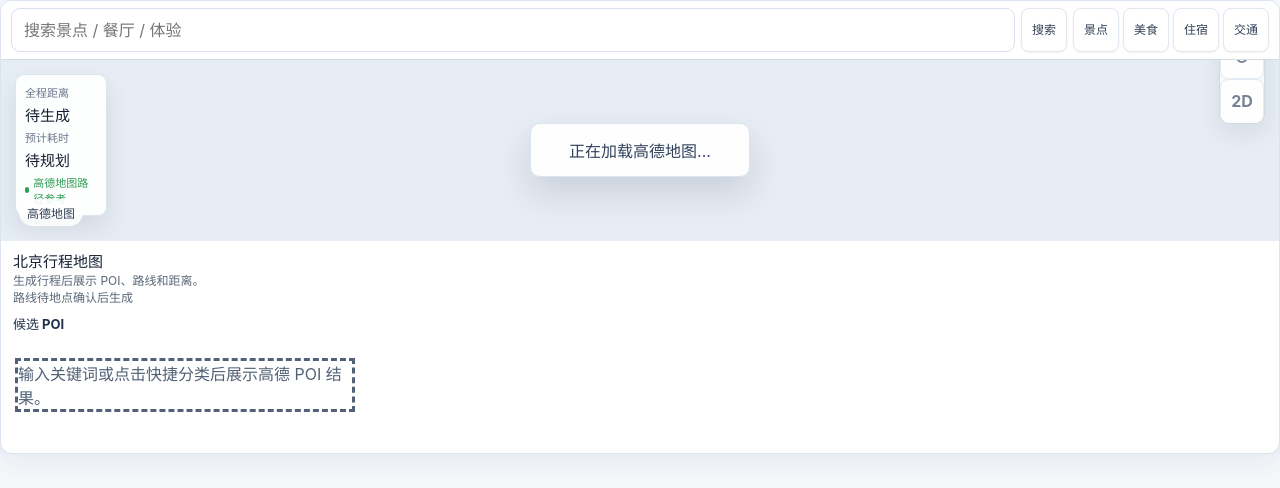
Test: map POI candidates are isolated when a new agent session starts
Type "故宫" into the field with placeholder "搜索景点 / 餐厅 / 体验" at (513, 30), box [11,8,1015,52]
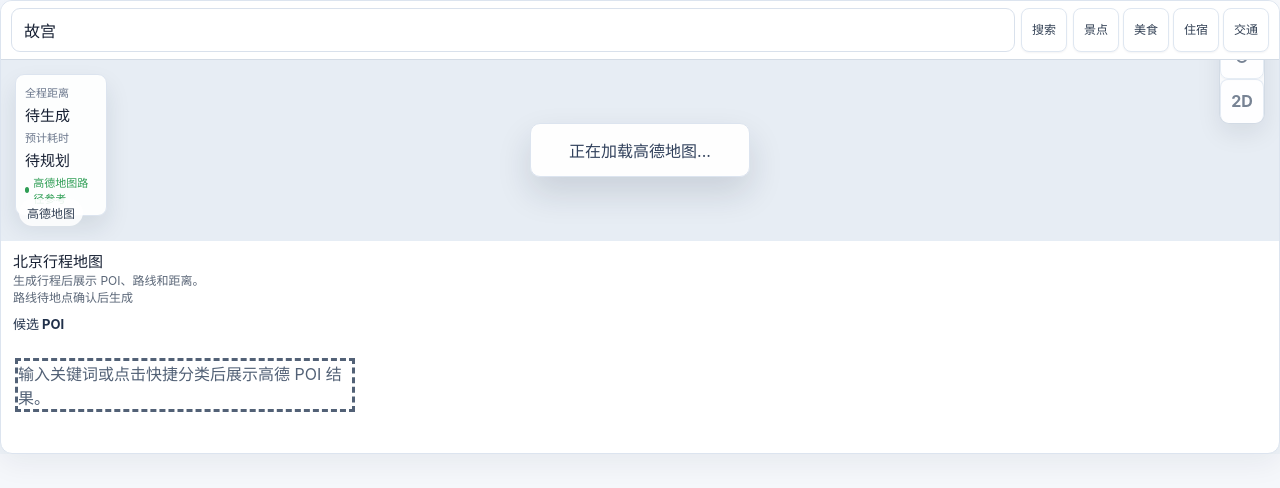
Click the button "搜索" at (1044, 30), box [1021,8,1067,52]
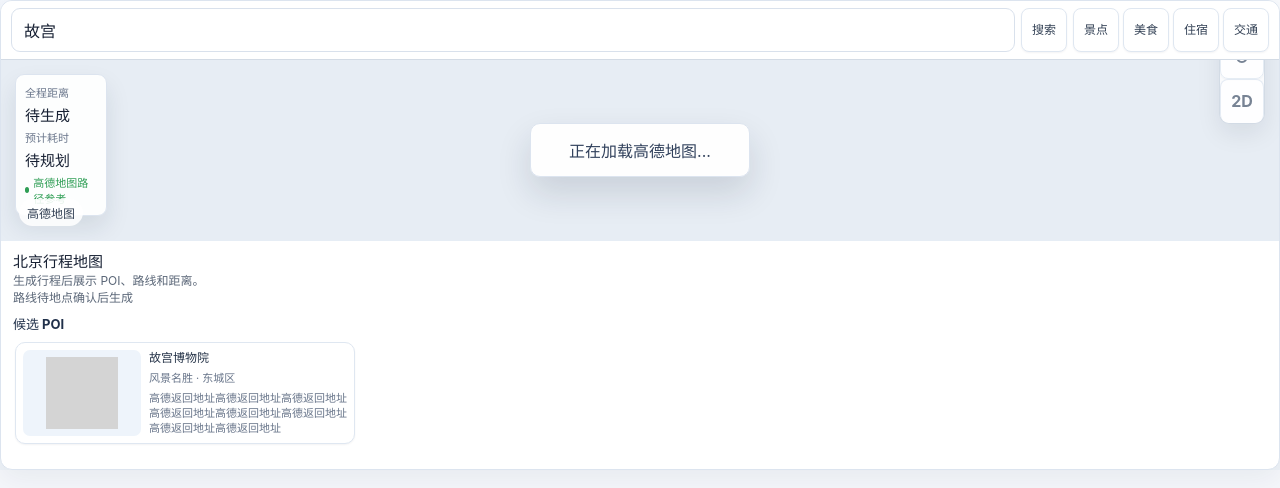
Check: the text "故宫博物院" is shown, box [149,350,209,365]
